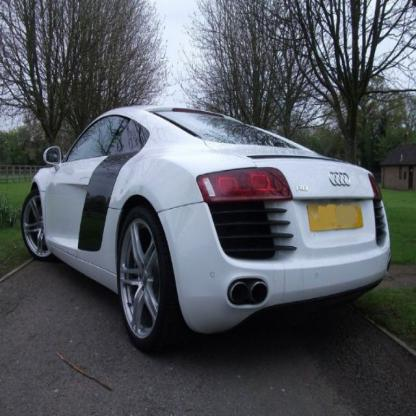Vehicle: (23, 104, 393, 358)
